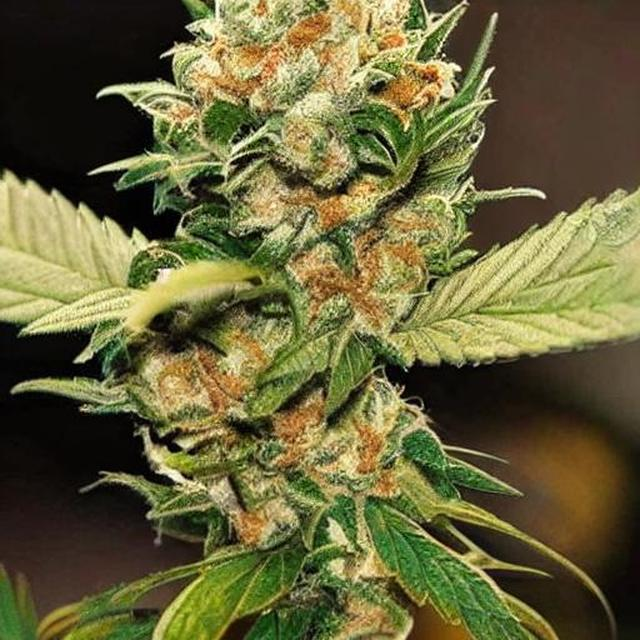Marijuana Plant: (17, 12, 623, 624)
